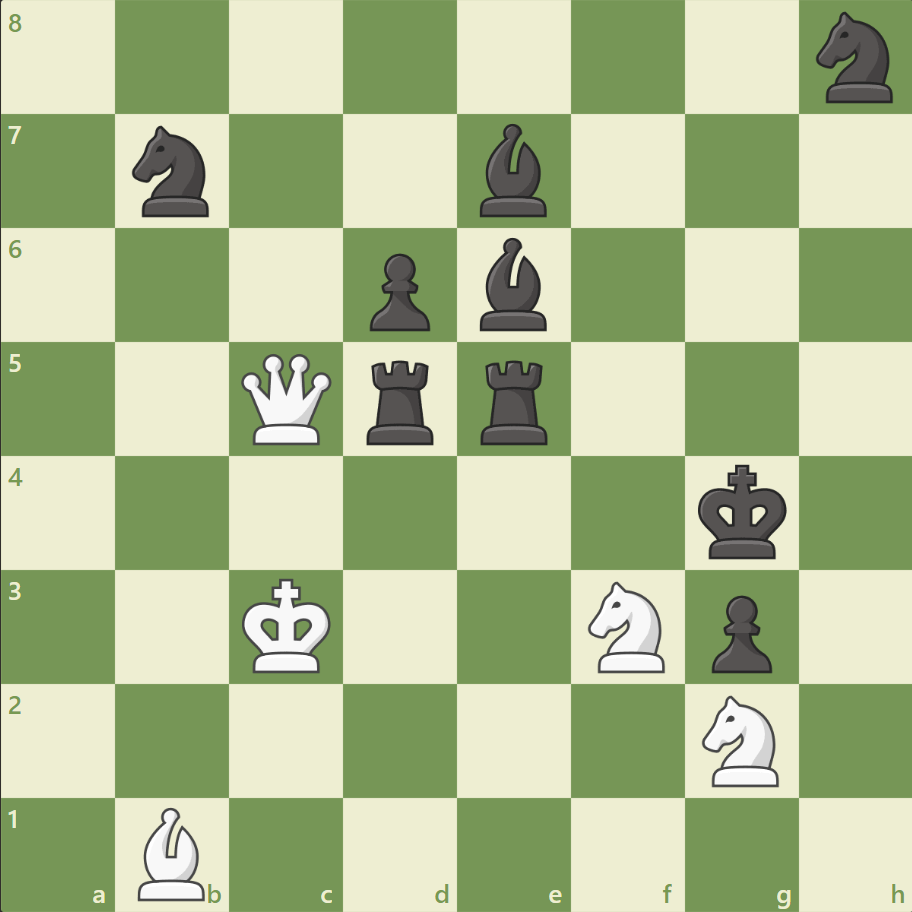B: (131, 801, 215, 904)
K: (238, 571, 338, 679)
N: (692, 688, 789, 791), (579, 575, 676, 677)
Q: (237, 349, 336, 449)
b: (471, 233, 555, 336), (471, 120, 555, 222)
k: (692, 458, 792, 566)
n: (124, 121, 222, 223), (806, 7, 903, 110)
p: (701, 586, 776, 677), (361, 246, 435, 337)
r: (473, 352, 556, 449), (360, 352, 442, 449)
